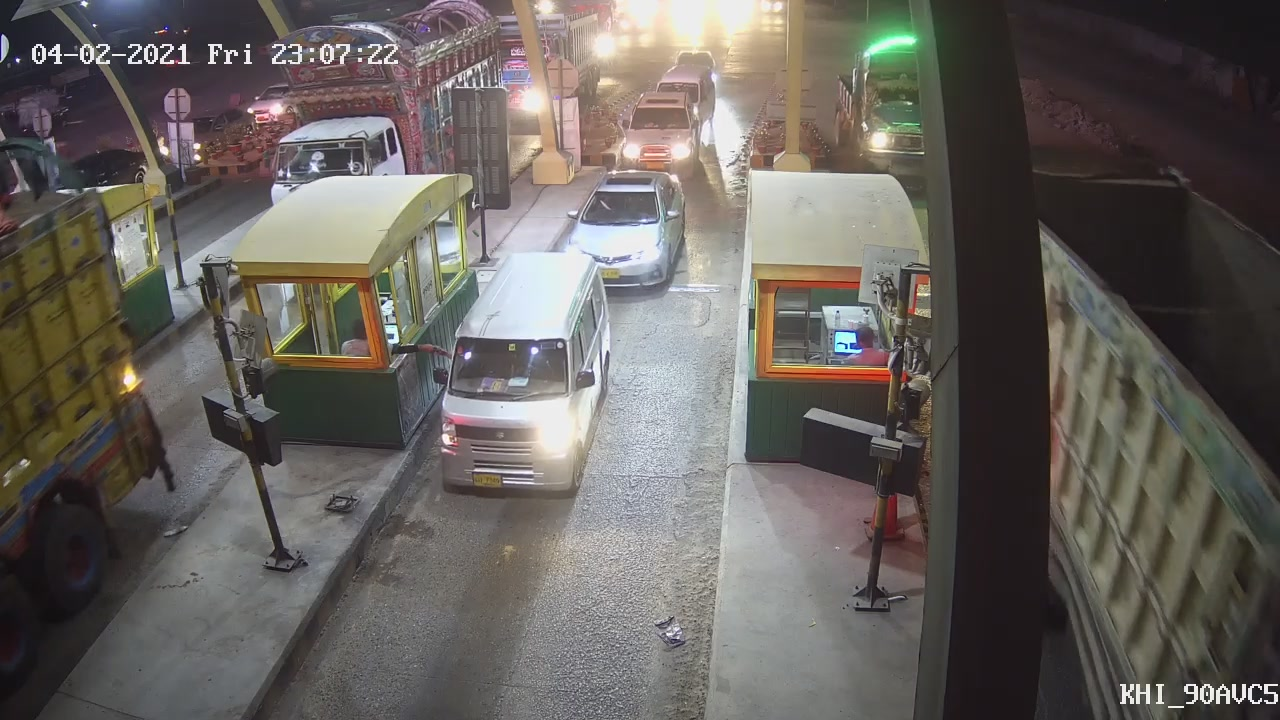F1: (428, 251, 614, 493), (551, 160, 698, 294)
